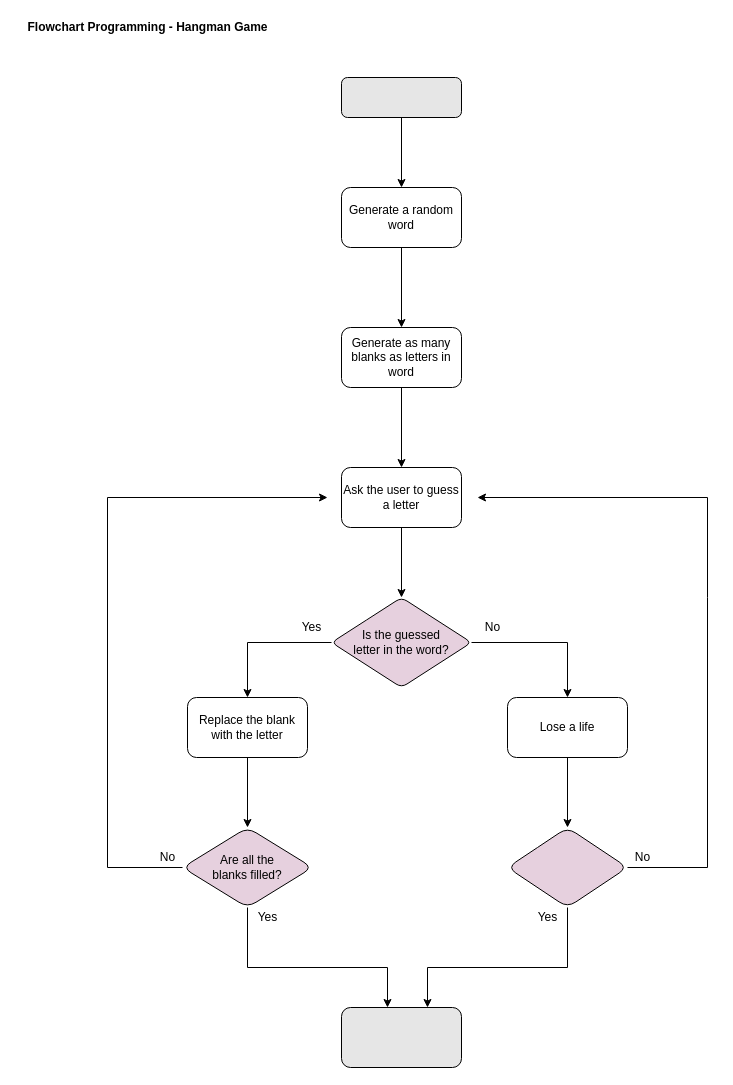
This 733x1085 diagram has some shape labels left out. Each missing label, with the centre of its shape:
GAME OVER: point 401,1037
Have they run out of lives?: point 567,867
START: point 401,97
